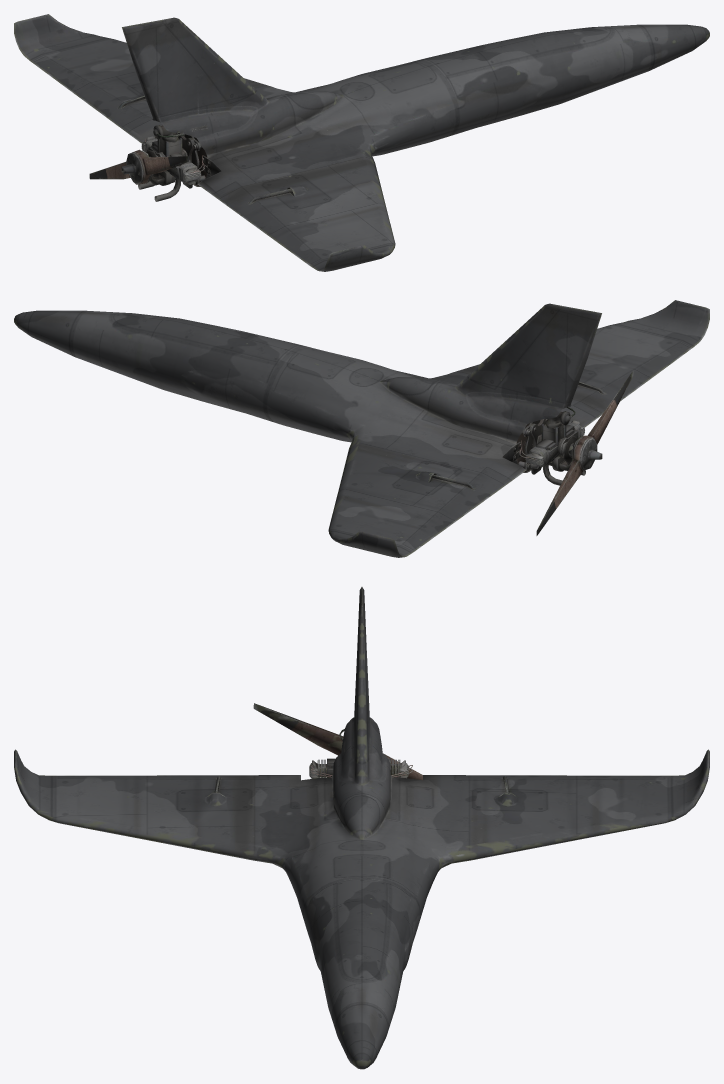
File: fh_battle_e_drone.glb
3 views of the same model, one above another, from view 1: azimuth 30°, elevation 25°; view 2: azimuth 150°, elevation 25°; view 3: azimuth 270°, elevation 25° (orthographic). The views are drawn at different scales.
Parts seen in each view (by area): view 1: drone, prop_1; view 2: drone, prop_1; view 3: drone, prop_1.
Boxes of the visible parts, left/top/right/bottom form: drone: left=14, top=14, right=709, bottom=271; prop_1: left=89, top=148, right=188, bottom=184; drone: left=14, top=300, right=709, bottom=557; prop_1: left=536, top=370, right=633, bottom=535; drone: left=14, top=587, right=709, bottom=1069; prop_1: left=253, top=703, right=422, bottom=780.
Size of the model in its own units: 1 by 0.3128 by 0.9364.
Materials: 1 (1 with a texture image).
